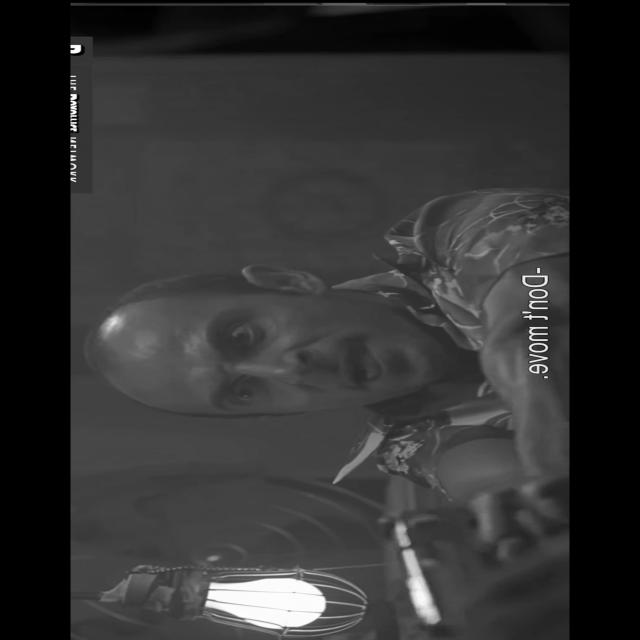weapons: (366, 488, 562, 636)
